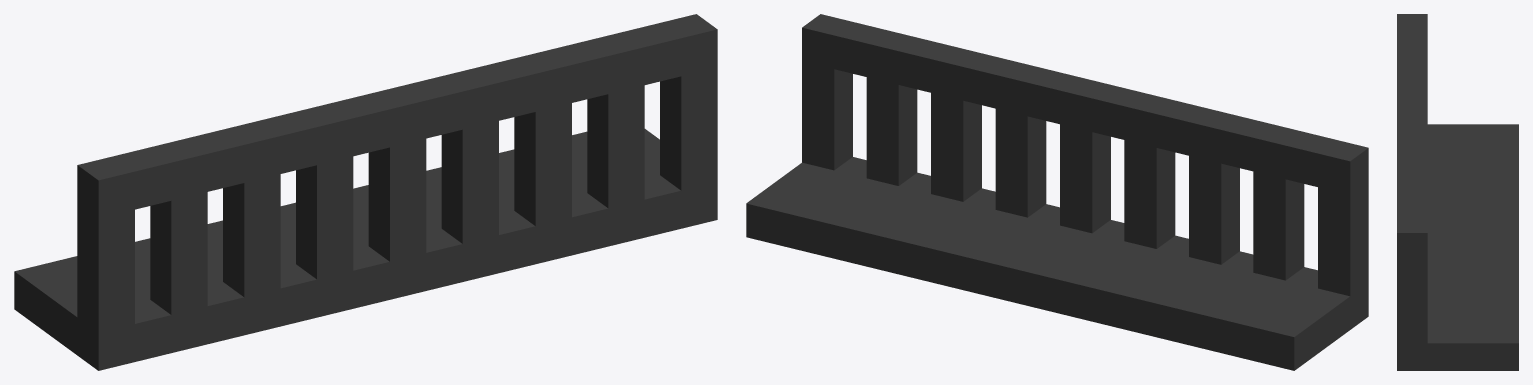
The model's file is palazzo1.glb.
3 renders of one model, left to right at view 1: azimuth 30°, elevation 25°; view 2: azimuth 150°, elevation 25°; view 3: azimuth 270°, elevation 25°, orthographic. The views are drawn at different scales.
Visible parts, largest first — view 1: Ringhiera.Aperta; view 2: Ringhiera.Aperta; view 3: Ringhiera.Aperta.
Part boxes in pixels (x1,y1,x2,y2): Ringhiera.Aperta: (14,14,717,370); Ringhiera.Aperta: (746,14,1368,370); Ringhiera.Aperta: (1397,14,1518,370).
Size of the model in its own units: 17 by 5 by 4.
1 material, 1 textured.
